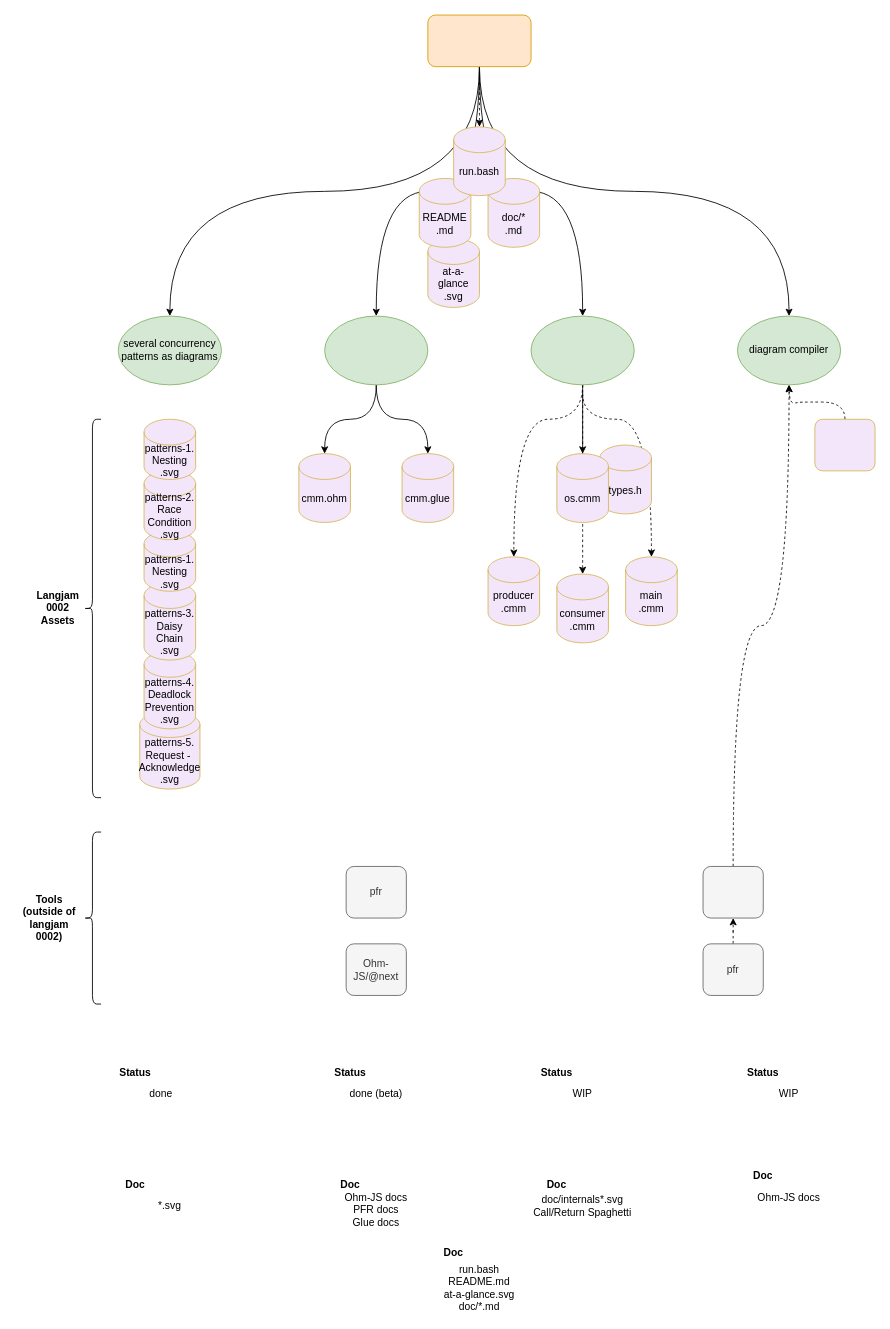
Some shapes in this 890 by 1329 pixel diagram are drawn without their labels. The shapes that lost their labels are listed below. From the top down, each one's centre as x and y in pixels, then its label:
At (479,40): "langjam 0002".
At (376,350): "dataless C".
At (582,350): "component operating system".
At (844,444): "f2j".
At (732,892): "d2f".
